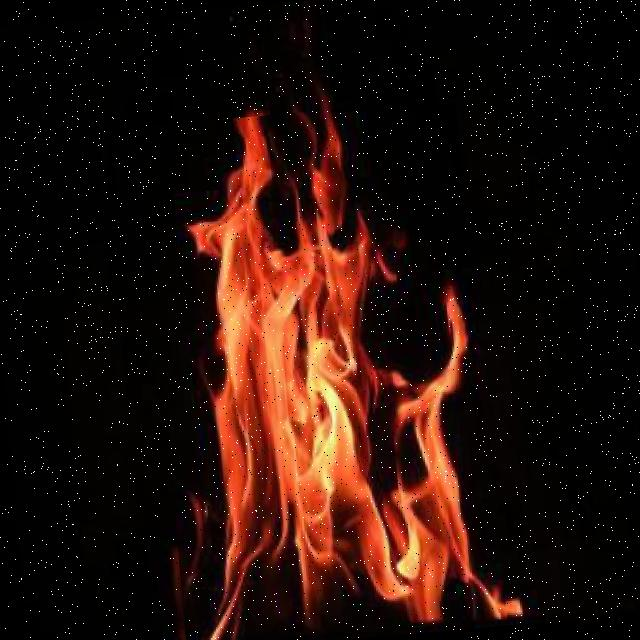fire: (140, 98, 506, 640)
